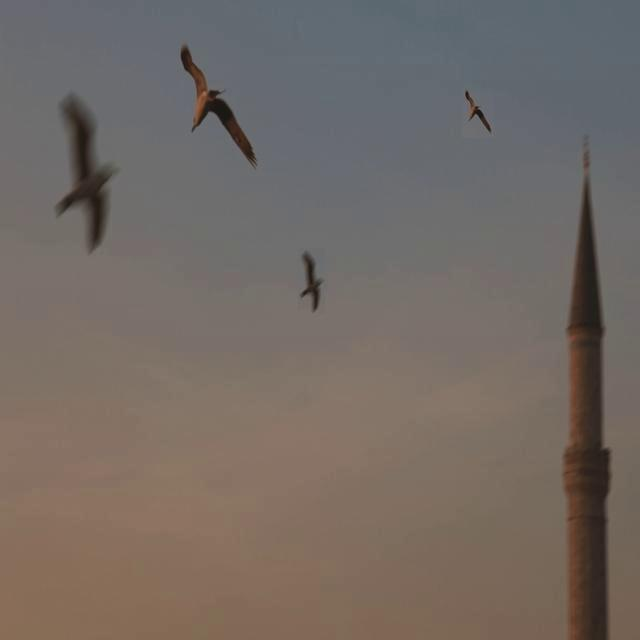bird: (47, 90, 130, 262), (172, 38, 264, 176), (288, 248, 336, 315), (452, 88, 500, 134)
